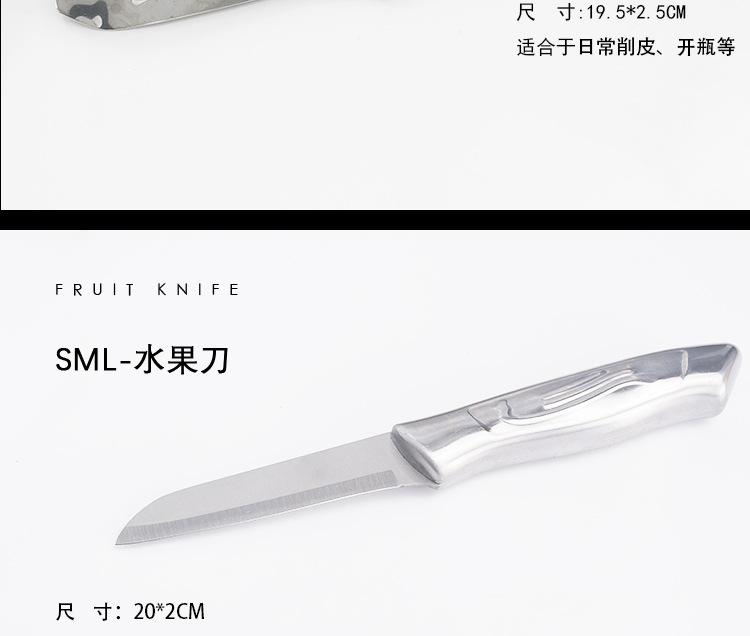knife: (37, 338, 743, 578)
